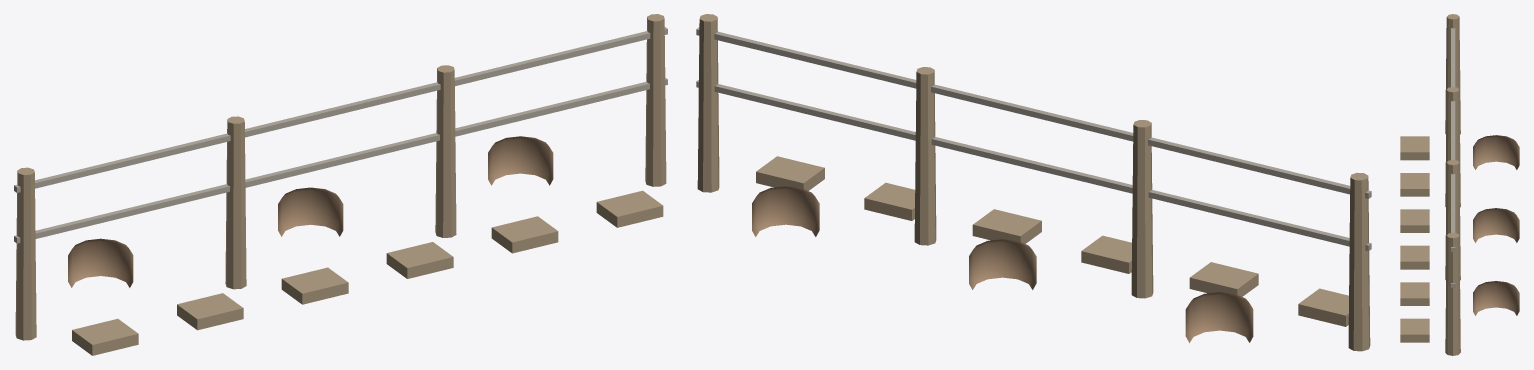
File: trench-line-1917-horse-line-post-f5ef1ab3__24120.glb
The picture shows the model from 3 angles, left to right: view 1: azimuth 30°, elevation 25°; view 2: azimuth 150°, elevation 25°; view 3: azimuth 270°, elevation 25°; orthographic projection. The views are drawn at different scales.
Visible parts, largest first — view 1: horse-line-post; view 2: horse-line-post; view 3: horse-line-post.
Boxes of the visible parts, x1,y1,x2,y2 form: horse-line-post: (14,14,667,355); horse-line-post: (696,14,1371,351); horse-line-post: (1400,14,1519,355).
Size of the model in its own units: 6.2 by 1.5 by 1.38.
